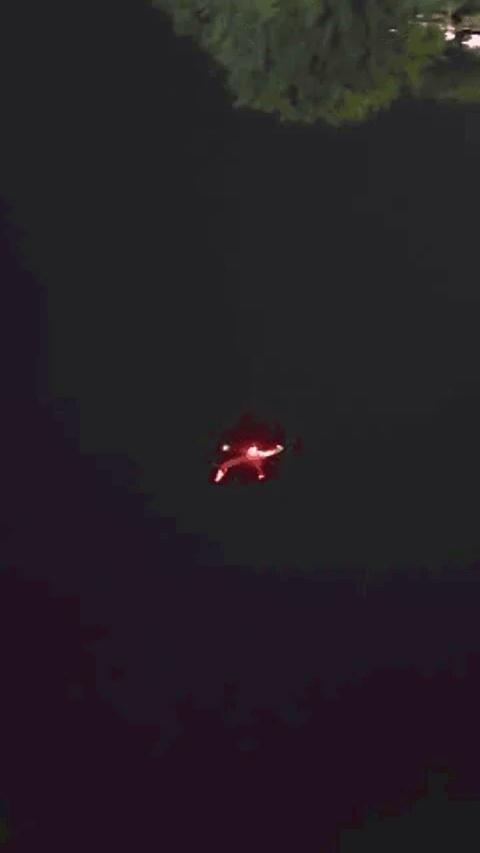Plane: (187, 384, 310, 521)
